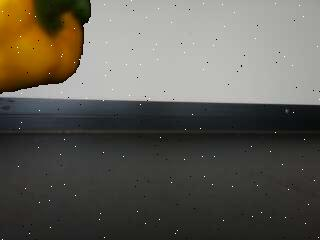Capsicum: (0, 0, 92, 97)
